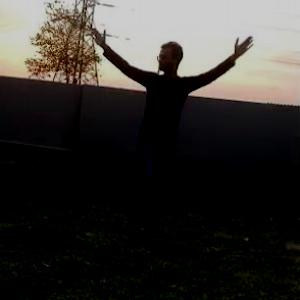takeoff: (92, 26, 267, 228)
